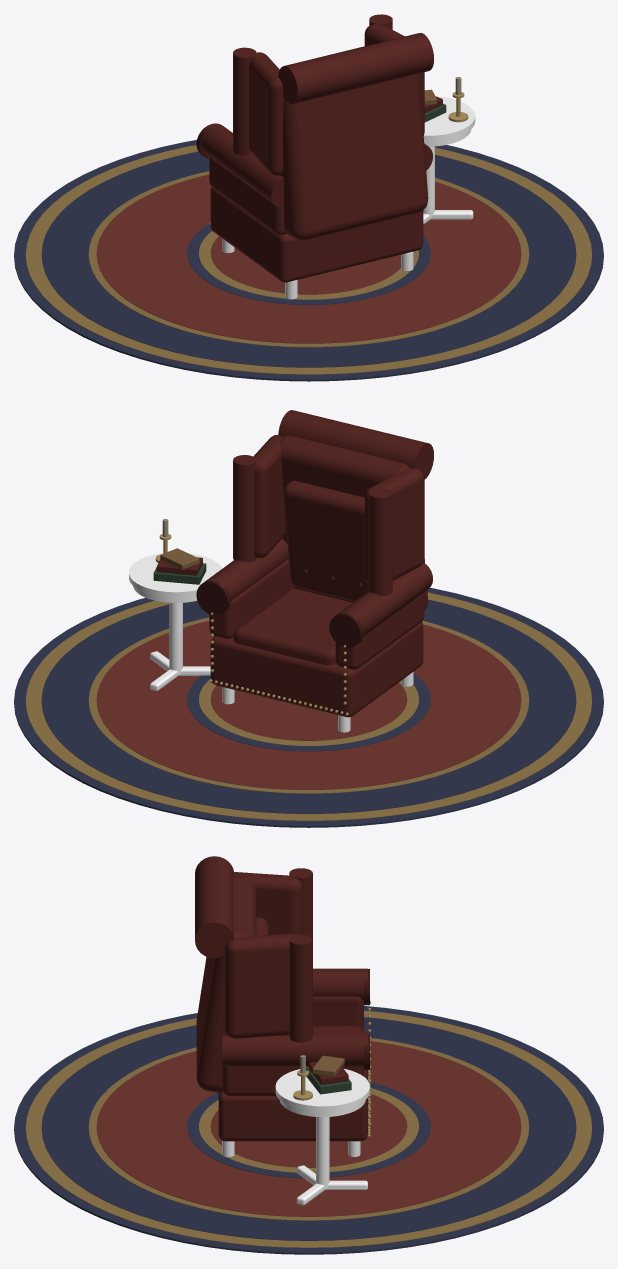
File: arcane_library.glb
3 renders of one model, top to bottom at view 1: azimuth 30°, elevation 25°; view 2: azimuth 150°, elevation 25°; view 3: azimuth 270°, elevation 25°, orthographic.
Visible parts, largest first — view 1: rug.004, rug.002, chair back.002, rug.001, rug, chair base.002, back crest.002, rug.003, rug.007, wing.004, arm roll.004, rug.005 (+5 smaller); view 2: rug.004, rug.002, rug.001, chair base.002, rug, back cushion.002, rug.007, seat cushion.002, chair back.002, rug.003, back crest.002, wing.004 (+14 smaller); view 3: rug.004, rug.002, rug.001, rug, wing.005, chair base.002, chair back.002, rug.007, rug.003, arm roll.005, back crest.002, rug.005 (+9 smaller).
Boxes of the visible parts, bbox=[...] form: rug.004: bbox=[96, 174, 521, 343]; rug.002: bbox=[41, 151, 576, 367]; chair back.002: bbox=[281, 73, 428, 240]; rug.001: bbox=[25, 145, 592, 374]; rug: bbox=[14, 140, 603, 381]; chair base.002: bbox=[210, 187, 423, 282]; back crest.002: bbox=[278, 33, 433, 104]; rug.003: bbox=[88, 171, 529, 347]; rug.007: bbox=[210, 236, 400, 294]; wing.004: bbox=[249, 52, 283, 175]; arm roll.004: bbox=[200, 123, 283, 207]; rug.005: bbox=[187, 224, 430, 305]; rug.004: bbox=[96, 621, 521, 789]; rug.002: bbox=[41, 599, 576, 813]; rug.001: bbox=[25, 592, 592, 820]; chair base.002: bbox=[210, 622, 423, 717]; rug: bbox=[14, 588, 603, 827]; back cushion.002: bbox=[283, 480, 369, 601]; rug.007: bbox=[210, 682, 407, 740]; seat cushion.002: bbox=[233, 588, 352, 665]; chair back.002: bbox=[279, 435, 428, 609]; rug.003: bbox=[88, 617, 529, 793]; back crest.002: bbox=[278, 410, 433, 479]; wing.004: bbox=[364, 468, 424, 584]; rug.004: bbox=[96, 1041, 521, 1216]; rug.002: bbox=[41, 1017, 576, 1240]; rug.001: bbox=[25, 1010, 592, 1247]; rug: bbox=[14, 1006, 603, 1254]; wing.005: bbox=[224, 933, 296, 1038]; chair base.002: bbox=[218, 1029, 367, 1141]; chair back.002: bbox=[196, 875, 256, 1092]; rug.007: bbox=[210, 1094, 407, 1167]; rug.003: bbox=[88, 1038, 529, 1220]; arm roll.005: bbox=[222, 1033, 367, 1066]; back crest.002: bbox=[195, 856, 234, 958]; rug.005: bbox=[187, 1082, 430, 1178].
Size of the model in its own units: 3 by 1.36 by 3.
